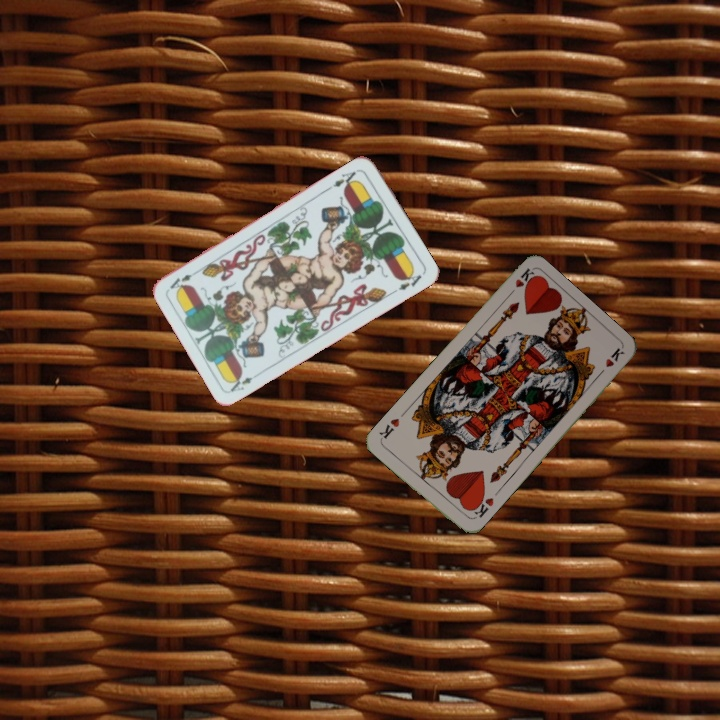EA: (325, 165, 362, 192), (225, 371, 255, 395)
HK: (503, 264, 538, 300), (466, 491, 496, 522)
